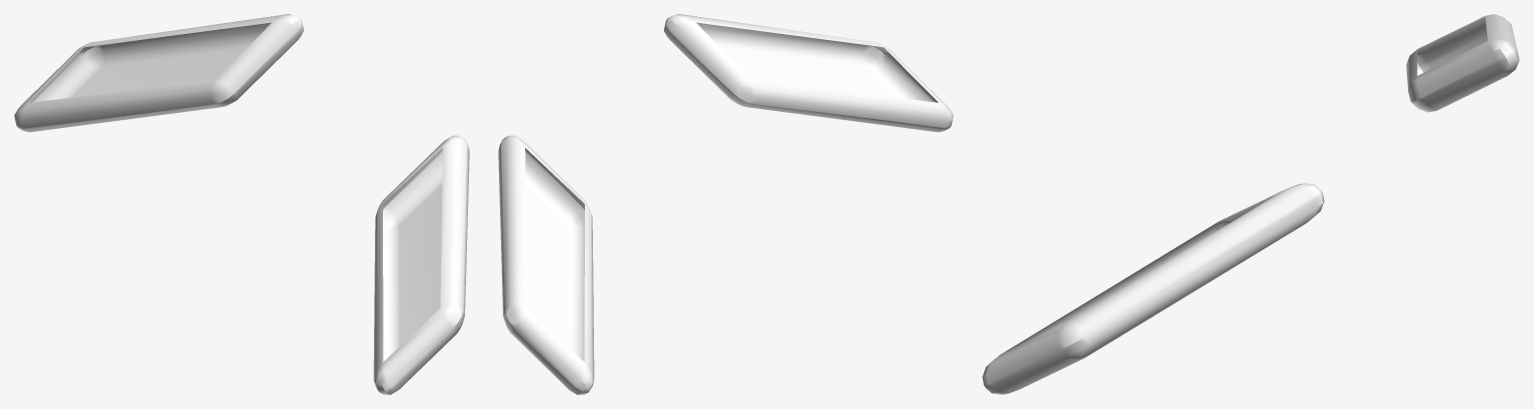
File: Captains_Console_Mesh.fbx
3 views of the same model, side by side, from view 1: azimuth 30°, elevation 25°; view 2: azimuth 150°, elevation 25°; view 3: azimuth 330°, elevation 25° (orthographic). The views are drawn at different scales.
Visible parts, largest first — view 1: Captains_Console_Mesh; view 2: Captains_Console_Mesh; view 3: Captains_Console_Mesh.
Boxes of the visible parts, x1,y1,x2,y2 form: Captains_Console_Mesh: (14, 14, 469, 394); Captains_Console_Mesh: (498, 14, 953, 394); Captains_Console_Mesh: (982, 14, 1519, 394).
Size of the model in its own units: 222 by 163 by 753.
